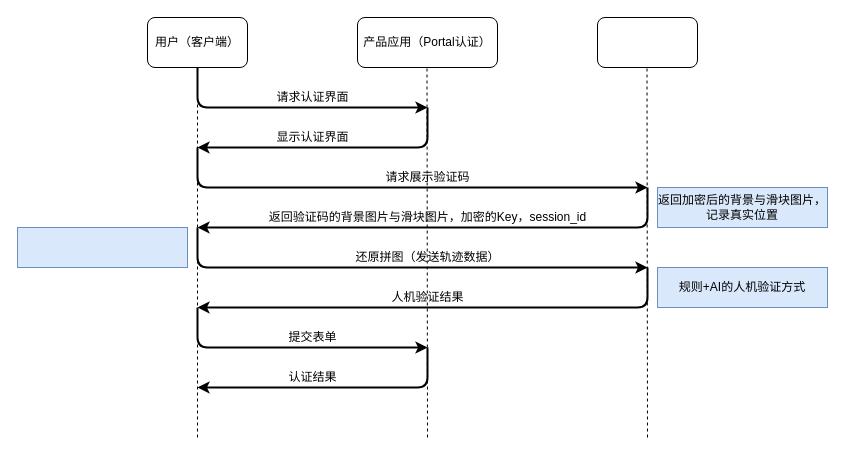
Some shapes in this 845 by 456 pixel diagram are drawn without their labels. The shapes that lost their labels are listed below. From the top down, each one's centre as x and y in pixels, then its label:
point 647,42: 人机验证后台
point 102,247: 图片解密，轨迹获取，轨迹加密
